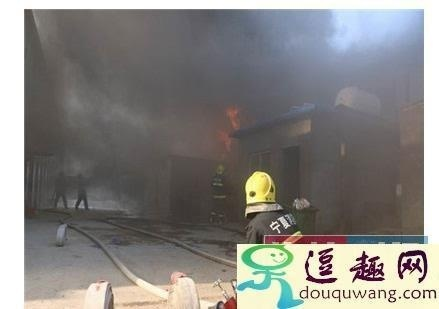fire: (216, 104, 241, 149)
